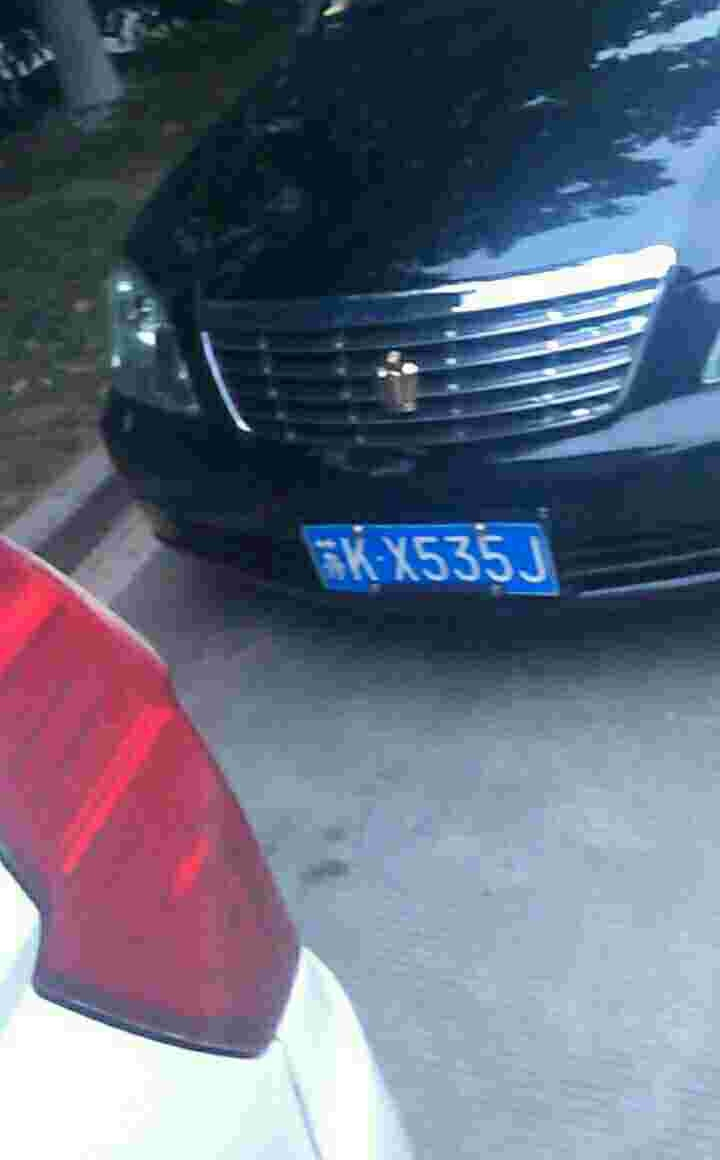plate: (294, 521, 568, 597)
